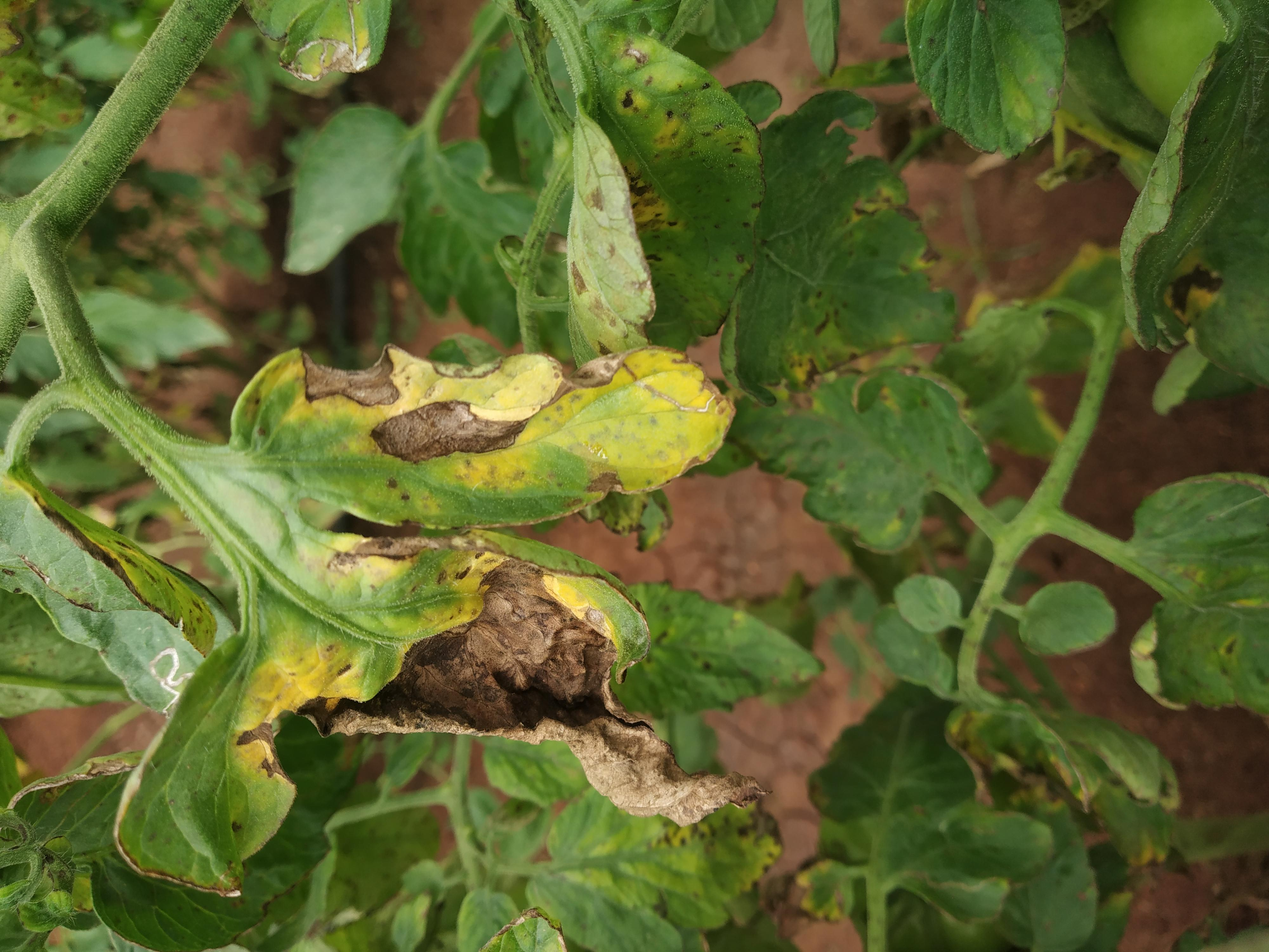Early Blight: (76, 85, 553, 584), (559, 174, 820, 555), (799, 425, 1233, 575)
